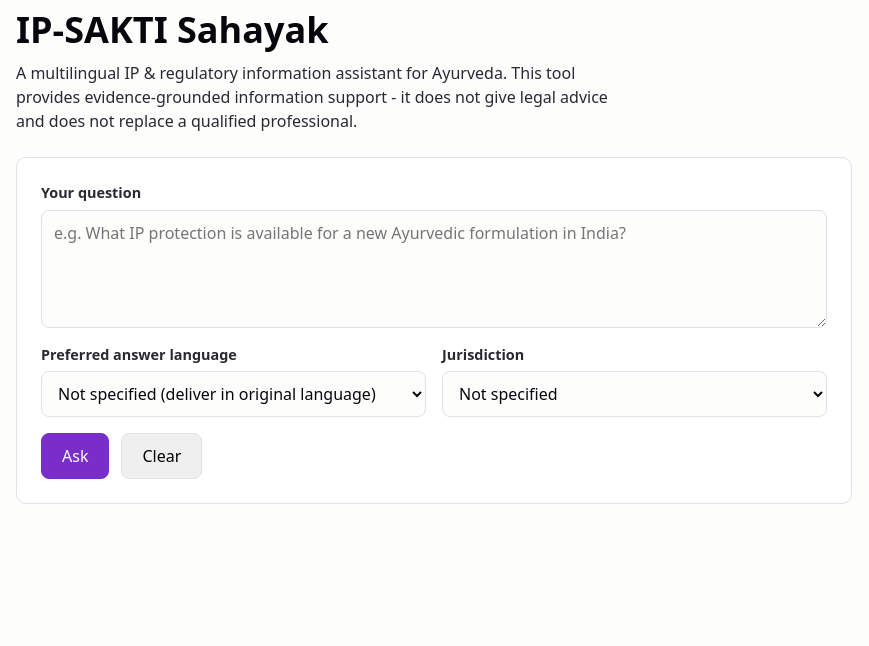
Test: query submission › renders an error panel on a 503 (provider not configured)
The image size is (869, 646).
Type "query" into the text box labelled "Your question".
click(434, 269); type("query")  # box [41,210,827,328]
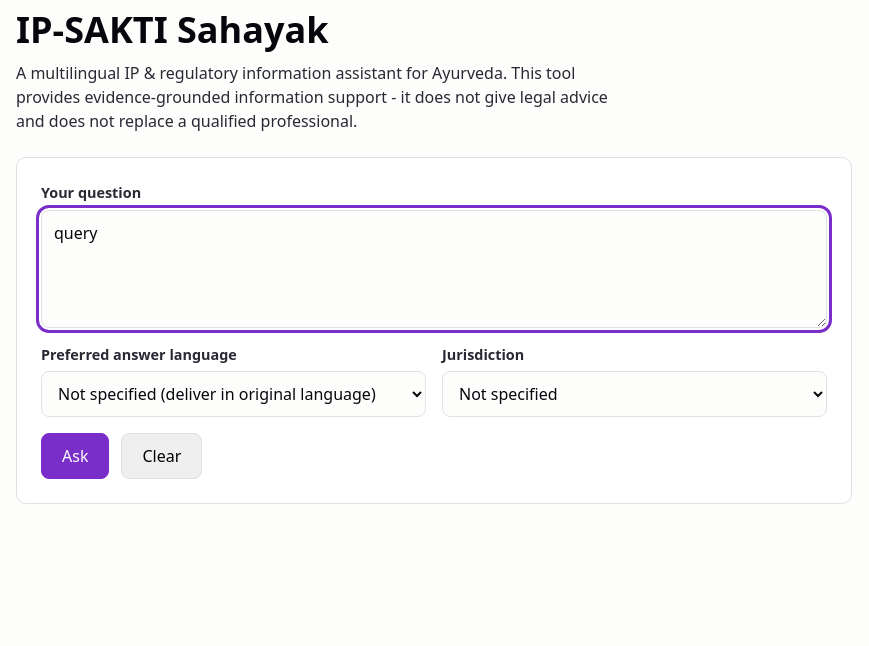
Click the button "Ask".
click(75, 456)  # box [41,433,109,479]
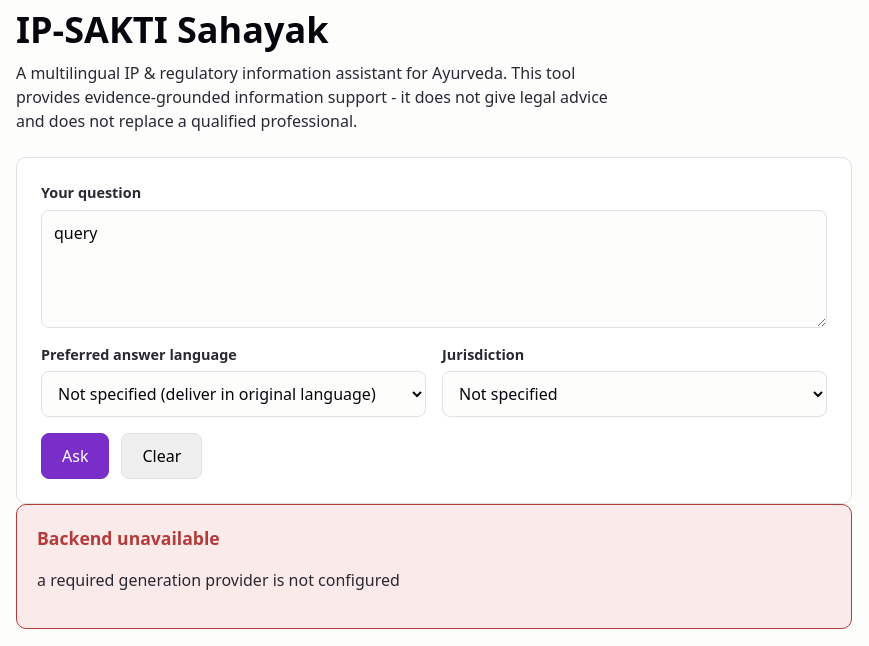
Result: the message shows "not configured" at [37,569,400,591]
